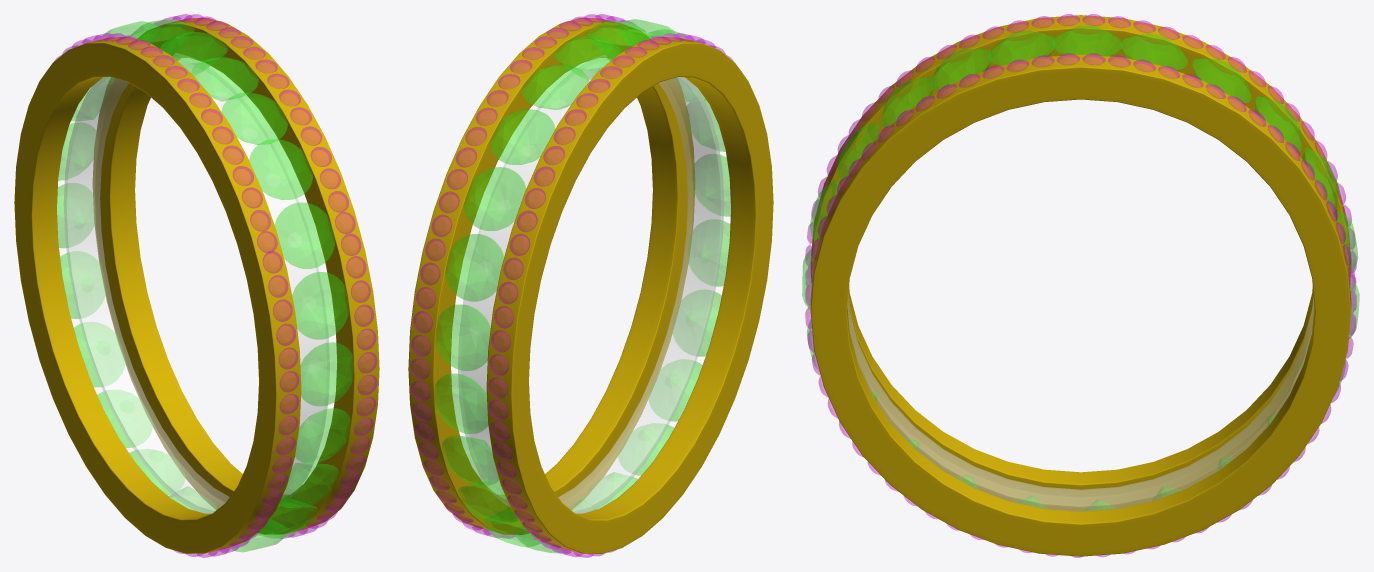
File: rounded ring1.glb
3 renders of one model, left to right at view 1: azimuth 30°, elevation 25°; view 2: azimuth 150°, elevation 25°; view 3: azimuth 270°, elevation 25°, orthographic. The views are drawn at different scales.
Parts seen in each view (by area): view 1: pPipe3, kafi_bade, pPipe6, chote_1; view 2: pPipe3, kafi_bade, pPipe6, chote_1; view 3: pPipe3, kafi_bade, chote_1, pPipe6.
Part boxes in pixels (left/top/right/bottom): pPipe3: left=14, top=18, right=379, bottom=553; kafi_bade: left=57, top=19, right=353, bottom=551; pPipe6: left=63, top=53, right=329, bottom=513; chote_1: left=55, top=14, right=377, bottom=557; pPipe3: left=408, top=18, right=773, bottom=553; kafi_bade: left=434, top=19, right=730, bottom=553; pPipe6: left=458, top=55, right=724, bottom=513; chote_1: left=410, top=14, right=732, bottom=557; pPipe3: left=810, top=15, right=1351, bottom=556; kafi_bade: left=802, top=26, right=1359, bottom=510; chote_1: left=805, top=14, right=1356, bottom=557; pPipe6: left=847, top=295, right=1314, bottom=511.
Size of the model in its own units: 0.1674 by 0.7568 by 0.7567.
